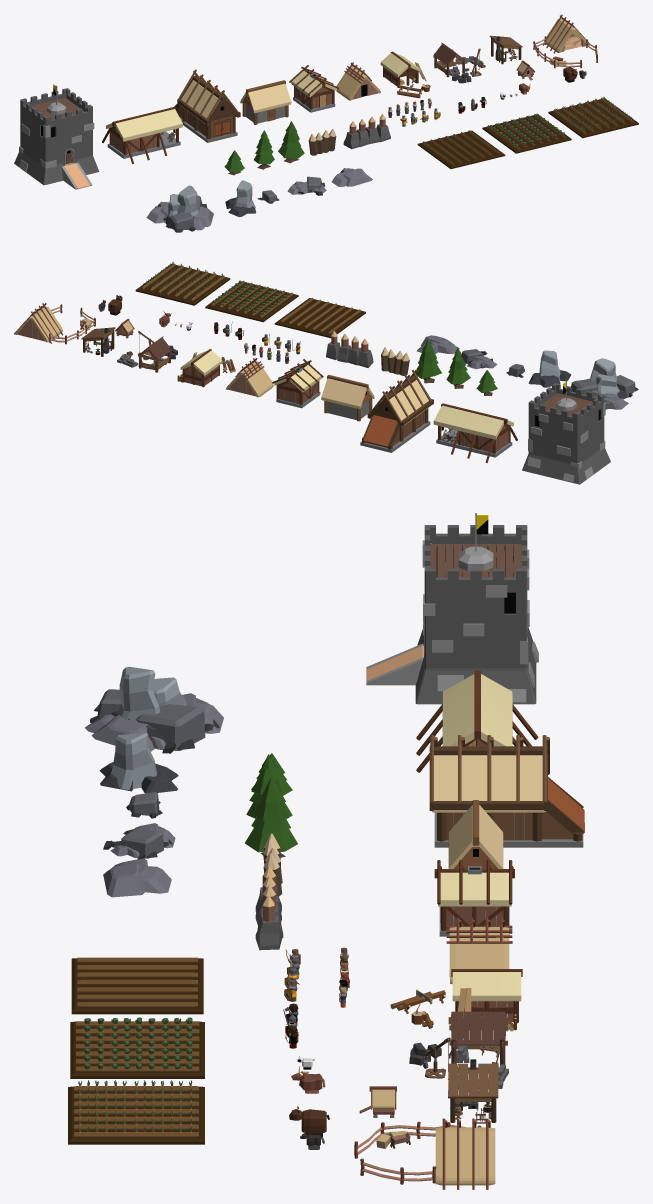
File: AllAssets.fbx
3 views of the same model, one above another, from view 1: azimuth 30°, elevation 25°; view 2: azimuth 150°, elevation 25°; view 3: azimuth 270°, elevation 25° (orthographic). The views are drawn at different scales.
Parts seen in each view (by area): view 1: Cylinder.000; view 2: Cylinder.000; view 3: Cylinder.000.
Part boxes in pixels (x1=…): Cylinder.000: x1=14, y1=14, x2=638, y2=232; Cylinder.000: x1=14, y1=261, x2=638, y2=484; Cylinder.000: x1=68, y1=513, x2=584, y2=1189.
Bounding box in the file's own units: 5946 × 877 × 2399.
